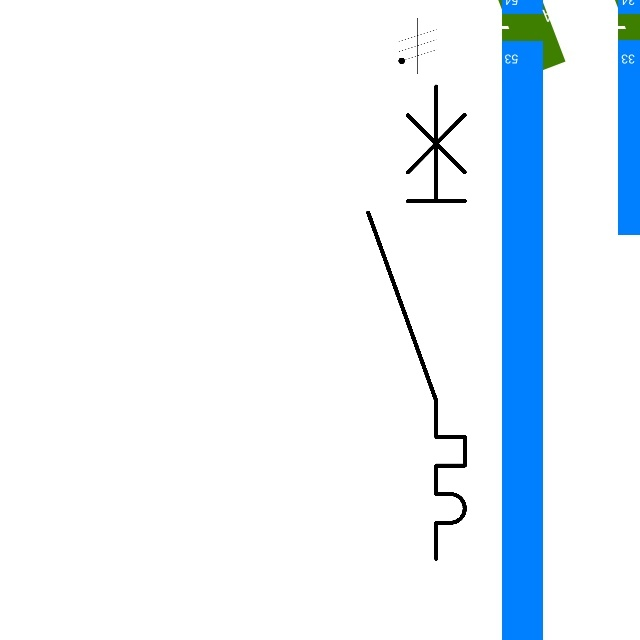interruptor_termomagnetico: (356, 74, 477, 571)
